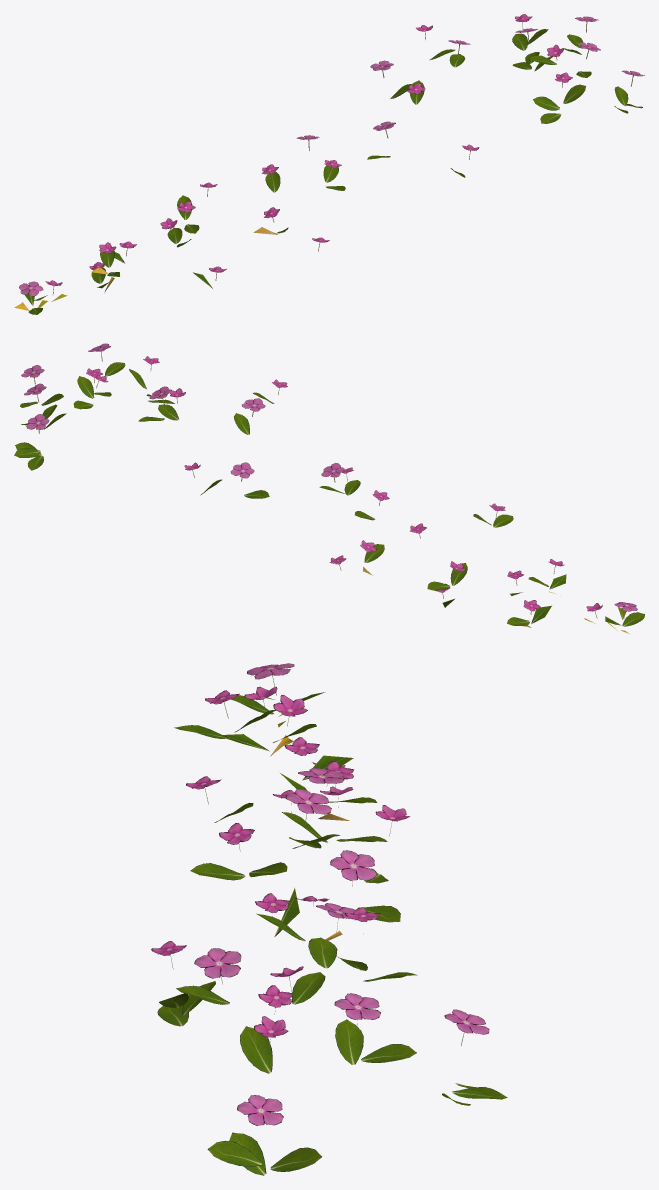
Rendered from periwinkle_plant.glb.
3 views of the same model, one above another, from view 1: azimuth 30°, elevation 25°; view 2: azimuth 150°, elevation 25°; view 3: azimuth 270°, elevation 25° (orthographic). The views are drawn at different scales.
Parts seen in each view (by area): view 1: periwinkle_plant_04_LOD0; view 2: periwinkle_plant_04_LOD0; view 3: periwinkle_plant_04_LOD0.
Boxes of the visible parts, bbox=[...] form: periwinkle_plant_04_LOD0: bbox=[14, 14, 644, 314]; periwinkle_plant_04_LOD0: bbox=[14, 343, 644, 633]; periwinkle_plant_04_LOD0: bbox=[151, 663, 507, 1175].
Size of the model in its own units: 1.22 by 0.3415 by 0.3069.
1 material, 1 textured.
